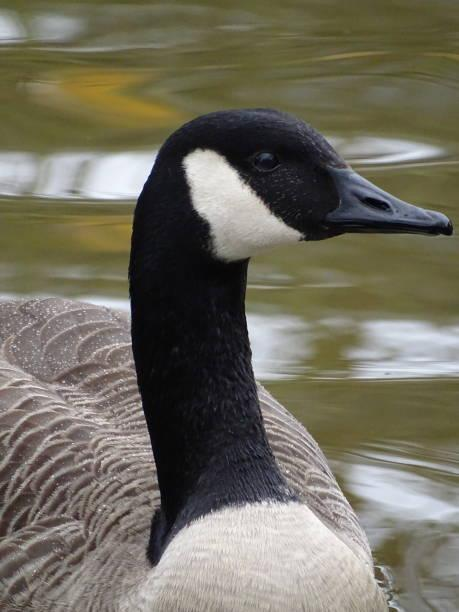Canadian-Goose: (0, 106, 459, 612)
